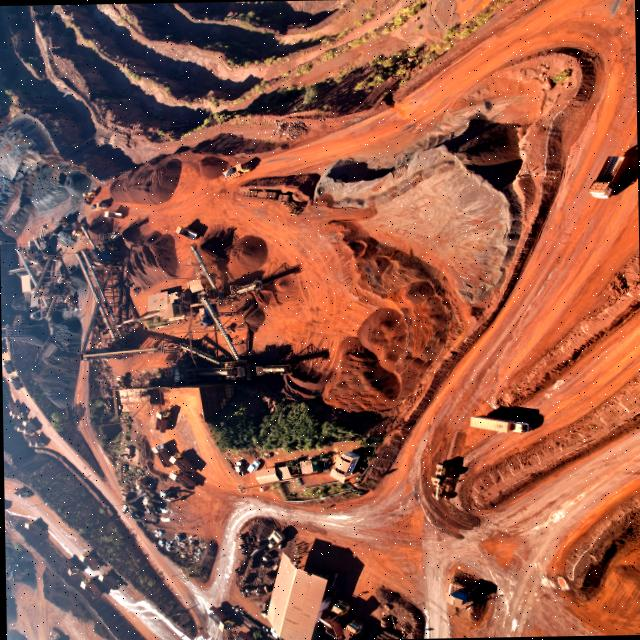Dumper truck: (588, 154, 638, 196), (206, 606, 232, 630), (320, 617, 342, 640), (168, 453, 194, 472), (342, 618, 364, 640), (170, 470, 196, 487), (98, 568, 120, 588), (170, 470, 194, 488), (78, 552, 98, 572), (79, 578, 98, 598), (78, 550, 98, 568), (78, 552, 98, 570), (100, 571, 120, 589), (98, 572, 118, 589), (222, 165, 248, 178), (154, 411, 170, 432), (152, 446, 168, 466), (80, 576, 96, 596), (78, 577, 96, 594), (98, 574, 115, 592), (80, 577, 99, 593), (162, 446, 175, 468), (175, 227, 197, 240), (175, 227, 197, 239), (176, 226, 197, 238), (63, 562, 78, 577), (65, 560, 79, 576), (24, 519, 40, 533), (178, 228, 196, 240), (23, 519, 38, 533), (232, 631, 254, 640), (24, 519, 40, 531), (102, 210, 119, 220), (23, 519, 37, 531), (8, 376, 20, 390), (7, 403, 19, 417), (10, 403, 22, 417), (235, 632, 256, 640), (22, 418, 34, 432), (25, 419, 37, 433), (7, 402, 19, 416), (90, 200, 106, 210), (75, 576, 88, 588), (71, 224, 83, 237), (31, 434, 42, 448), (70, 226, 82, 238), (11, 419, 22, 432), (32, 436, 42, 450), (24, 419, 34, 432), (92, 200, 105, 210), (104, 210, 120, 218), (93, 200, 109, 208), (1, 360, 11, 372), (107, 210, 122, 218), (73, 223, 85, 233), (22, 420, 30, 434), (94, 200, 105, 210), (15, 489, 28, 497), (3, 498, 8, 508), (3, 500, 8, 510), (49, 637, 61, 640)
Excavator: (120, 500, 154, 523), (158, 488, 188, 500), (266, 530, 284, 548), (267, 530, 285, 548), (157, 488, 180, 501), (114, 374, 126, 388)
car: (232, 462, 244, 476)
person: (353, 592, 362, 598), (321, 506, 330, 510)
